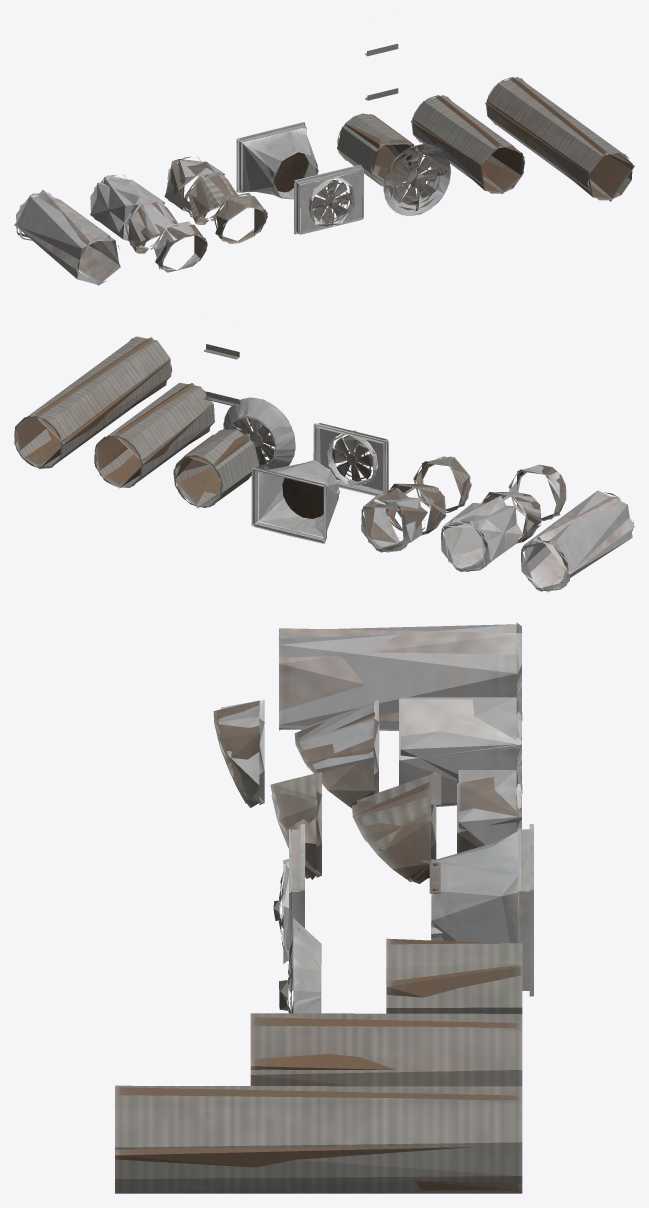
File: modular_airduct_circular_01.glb
The picture shows the model from 3 angles, top to bottom: view 1: azimuth 30°, elevation 25°; view 2: azimuth 150°, elevation 25°; view 3: azimuth 270°, elevation 25°; orthographic projection. The views are drawn at different scales.
Visible parts, largest first — view 1: modular_airduct_circular_triple, modular_airduct_circular_double, modular_airduct_circular_smooth_triple, modular_airduct_rectangular_converter, modular_airduct_rectangular_vent_fan, modular_airduct_circular_fan, modular_airduct_circular_single, modular_airduct_circular_smooth_double, modular_airduct_circular_smooth_bend_half, modular_airduct_circular_bend_half, modular_airduct_circular_smooth_single, modular_airduct_circular_smooth_bend_quater (+1 smaller); view 2: modular_airduct_circular_triple, modular_airduct_circular_double, modular_airduct_circular_smooth_triple, modular_airduct_rectangular_converter, modular_airduct_circular_single, modular_airduct_circular_smooth_double, modular_airduct_rectangular_vent_fan, modular_airduct_circular_fan, modular_airduct_circular_smooth_single, modular_airduct_circular_bend_half, modular_airduct_circular_smooth_bend_quater, modular_airduct_circular_bend_quater (+1 smaller); view 3: modular_airduct_circular_triple, modular_airduct_circular_double, modular_airduct_circular_smooth_triple, modular_airduct_rectangular_converter, modular_airduct_circular_single, modular_airduct_circular_smooth_double, modular_airduct_circular_bend_half, modular_airduct_circular_smooth_bend_half, modular_airduct_circular_smooth_single, modular_airduct_circular_smooth_bend_quater, modular_airduct_circular_bend_quater, modular_airduct_circular_fan (+1 smaller).
Boxes of the visible parts, x1,y1,x2,y2 form: modular_airduct_circular_triple: (485, 77, 634, 201); modular_airduct_circular_double: (410, 95, 524, 193); modular_airduct_circular_smooth_triple: (14, 190, 120, 285); modular_airduct_rectangular_converter: (236, 122, 318, 199); modular_airduct_rectangular_vent_fan: (294, 164, 363, 234); modular_airduct_circular_fan: (383, 143, 450, 216); modular_airduct_circular_single: (337, 113, 414, 186); modular_airduct_circular_smooth_double: (90, 174, 164, 246); modular_airduct_circular_smooth_bend_half: (124, 200, 179, 253); modular_airduct_circular_bend_half: (184, 171, 238, 224); modular_airduct_circular_smooth_single: (164, 156, 224, 217); modular_airduct_circular_smooth_bend_quater: (153, 221, 207, 272); modular_airduct_circular_triple: (14, 336, 171, 468); modular_airduct_circular_double: (94, 382, 214, 488); modular_airduct_circular_smooth_triple: (521, 490, 634, 591); modular_airduct_rectangular_converter: (251, 460, 340, 543); modular_airduct_circular_single: (173, 429, 259, 508); modular_airduct_circular_smooth_double: (441, 496, 523, 571); modular_airduct_rectangular_vent_fan: (313, 423, 388, 496); modular_airduct_circular_fan: (223, 397, 295, 473); modular_airduct_circular_smooth_single: (361, 488, 427, 552); modular_airduct_circular_bend_half: (384, 483, 446, 535); modular_airduct_circular_smooth_bend_quater: (508, 464, 566, 521); modular_airduct_circular_bend_quater: (413, 456, 471, 512); modular_airduct_circular_triple: (115, 1085, 522, 1193); modular_airduct_circular_double: (250, 1013, 522, 1086); modular_airduct_circular_smooth_triple: (279, 622, 522, 731); modular_airduct_rectangular_converter: (431, 824, 533, 996); modular_airduct_circular_single: (386, 938, 522, 1013); modular_airduct_circular_smooth_double: (399, 695, 522, 806); modular_airduct_circular_bend_half: (352, 772, 436, 883); modular_airduct_circular_smooth_bend_half: (294, 699, 379, 808); modular_airduct_circular_smooth_single: (457, 766, 521, 853); modular_airduct_circular_smooth_bend_quater: (213, 699, 264, 807); modular_airduct_circular_bend_quater: (270, 772, 321, 879); modular_airduct_circular_fan: (279, 917, 321, 1013).
Bounding box in the file's own units: 4.19 × 1.32 × 1.46.
2 materials, 2 textured.
